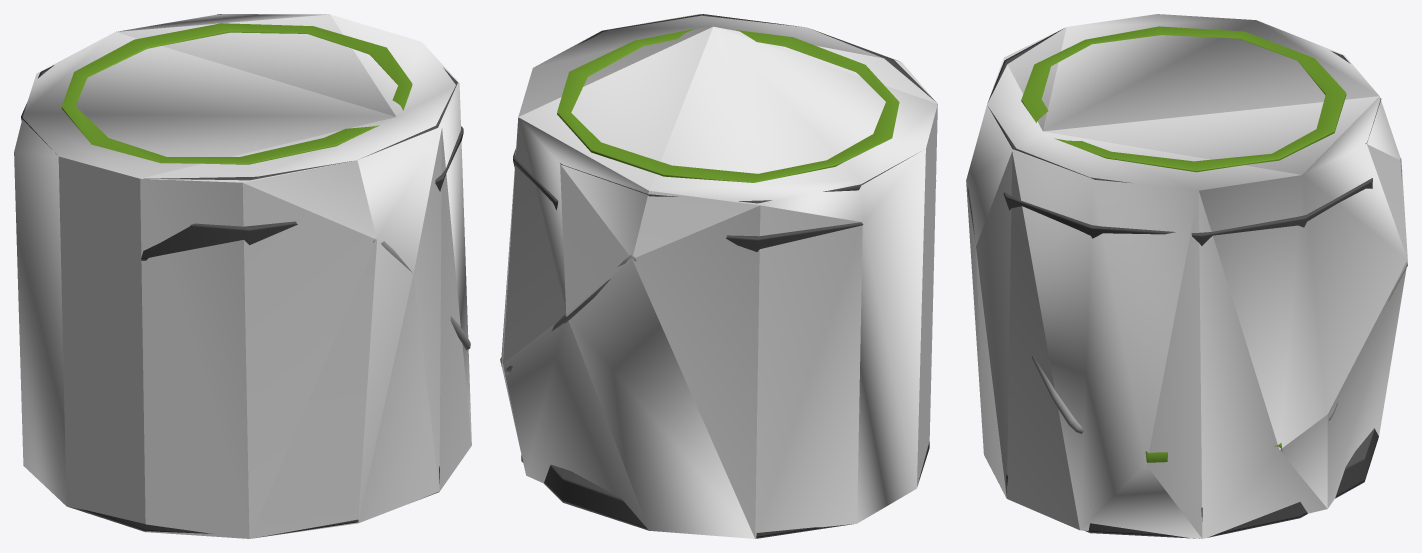
File: paint.fbx
3 renders of one model, left to right at view 1: azimuth 30°, elevation 25°; view 2: azimuth 150°, elevation 25°; view 3: azimuth 270°, elevation 25°, orthographic. The views are drawn at different scales.
Parts seen in each view (by area): view 1: c_paint, paint; view 2: c_paint, paint; view 3: c_paint, paint.
Part boxes in pixels (x1,y1,x2,y2): c_paint: (14, 14, 471, 538); paint: (14, 14, 470, 538); c_paint: (501, 14, 937, 538); paint: (500, 14, 936, 538); c_paint: (966, 14, 1407, 538); paint: (967, 26, 1407, 538).
Size of the model in its own units: 35.06 by 31.47 by 35.41.
